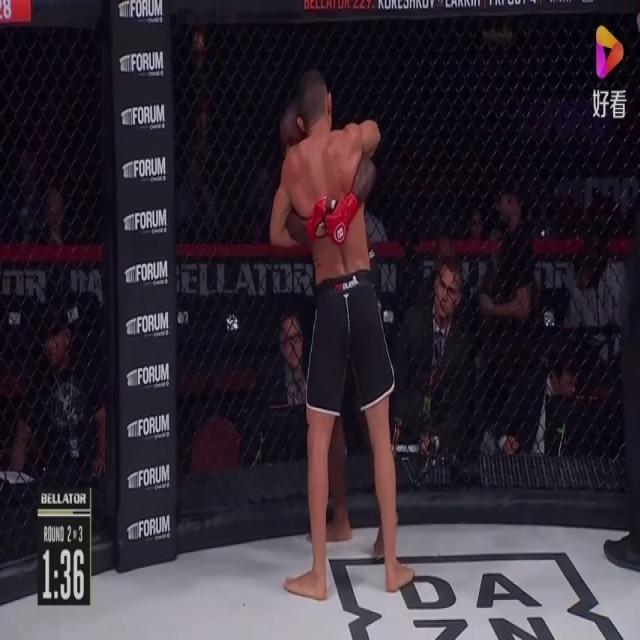fight: (262, 68, 396, 632)
